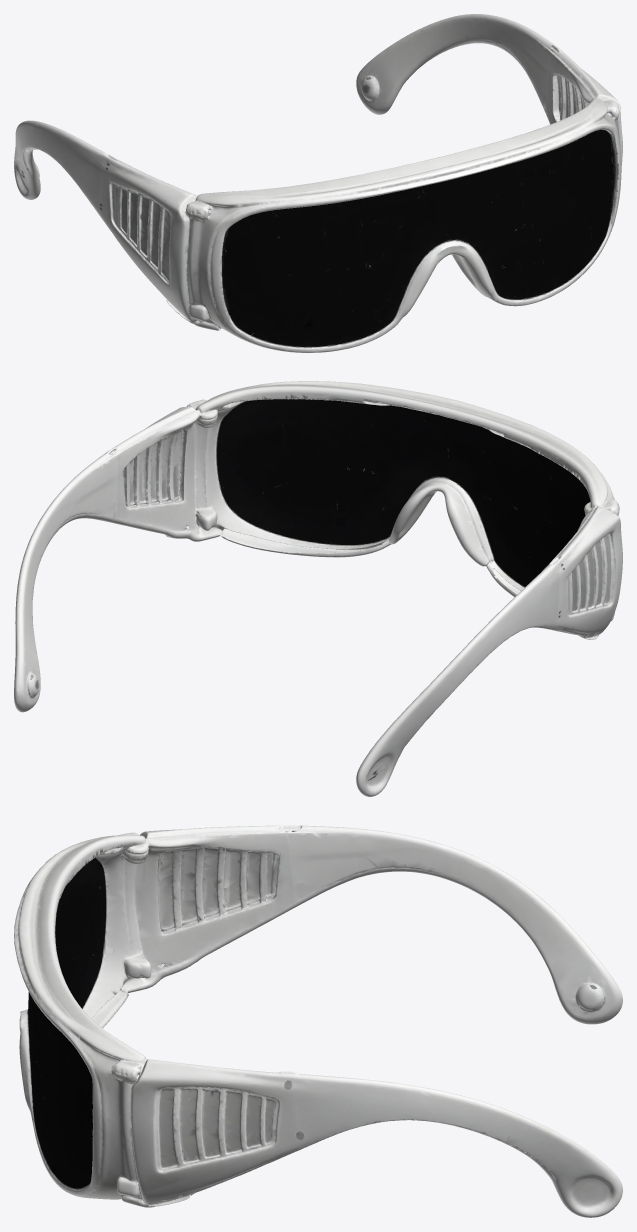
Rendered from crystal_Safety_Google5M.glb.
3 views of the same model, one above another, from view 1: azimuth 30°, elevation 25°; view 2: azimuth 150°, elevation 25°; view 3: azimuth 270°, elevation 25° (orthographic). The views are drawn at different scales.
Parts seen in each view (by area): view 1: Mesh_0; view 2: Mesh_0; view 3: Mesh_0.
Part boxes in pixels (x1,y1,x2,y2): Mesh_0: [14, 14, 622, 352]; Mesh_0: [14, 381, 622, 796]; Mesh_0: [14, 825, 622, 1217].
Bounding box in the file's own units: 14.06 × 5 × 14.12.
Materials: 1 (1 with a texture image).
